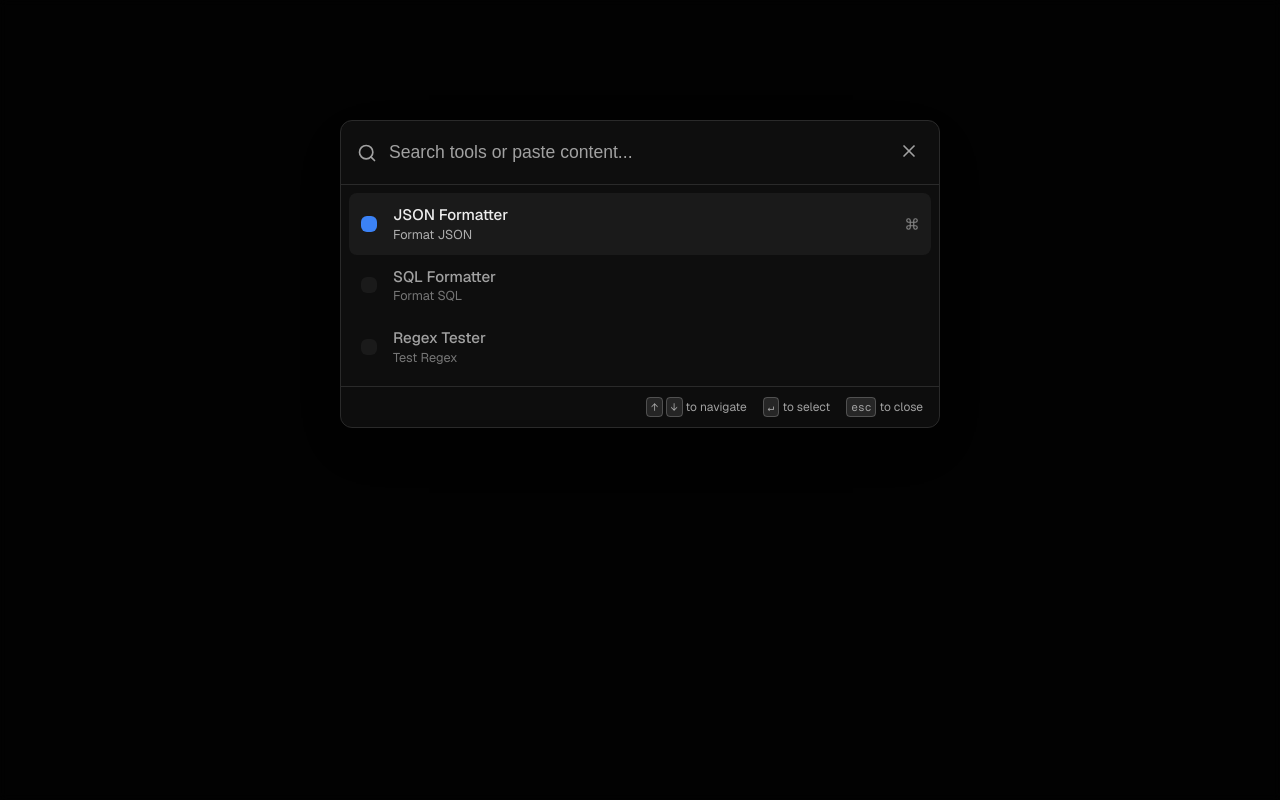
CommandPalette › filters tools based on query
Type "sql" into the field with placeholder "Search tools or paste content...". click: (642, 152)
box: [389,142,895,163]
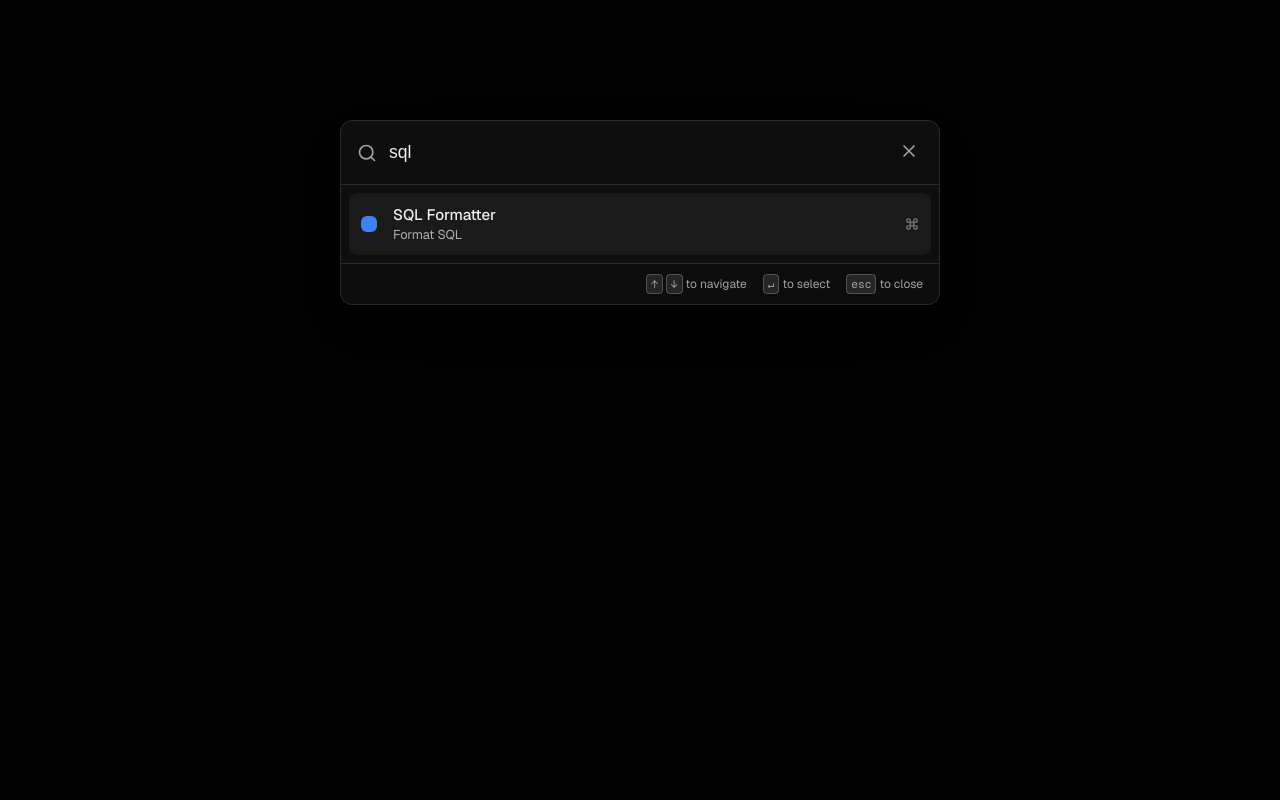
Check: the text "SQL Formatter" is shown, box [393,205,496,224]
Check: the text "JSON Formatter" is gone
